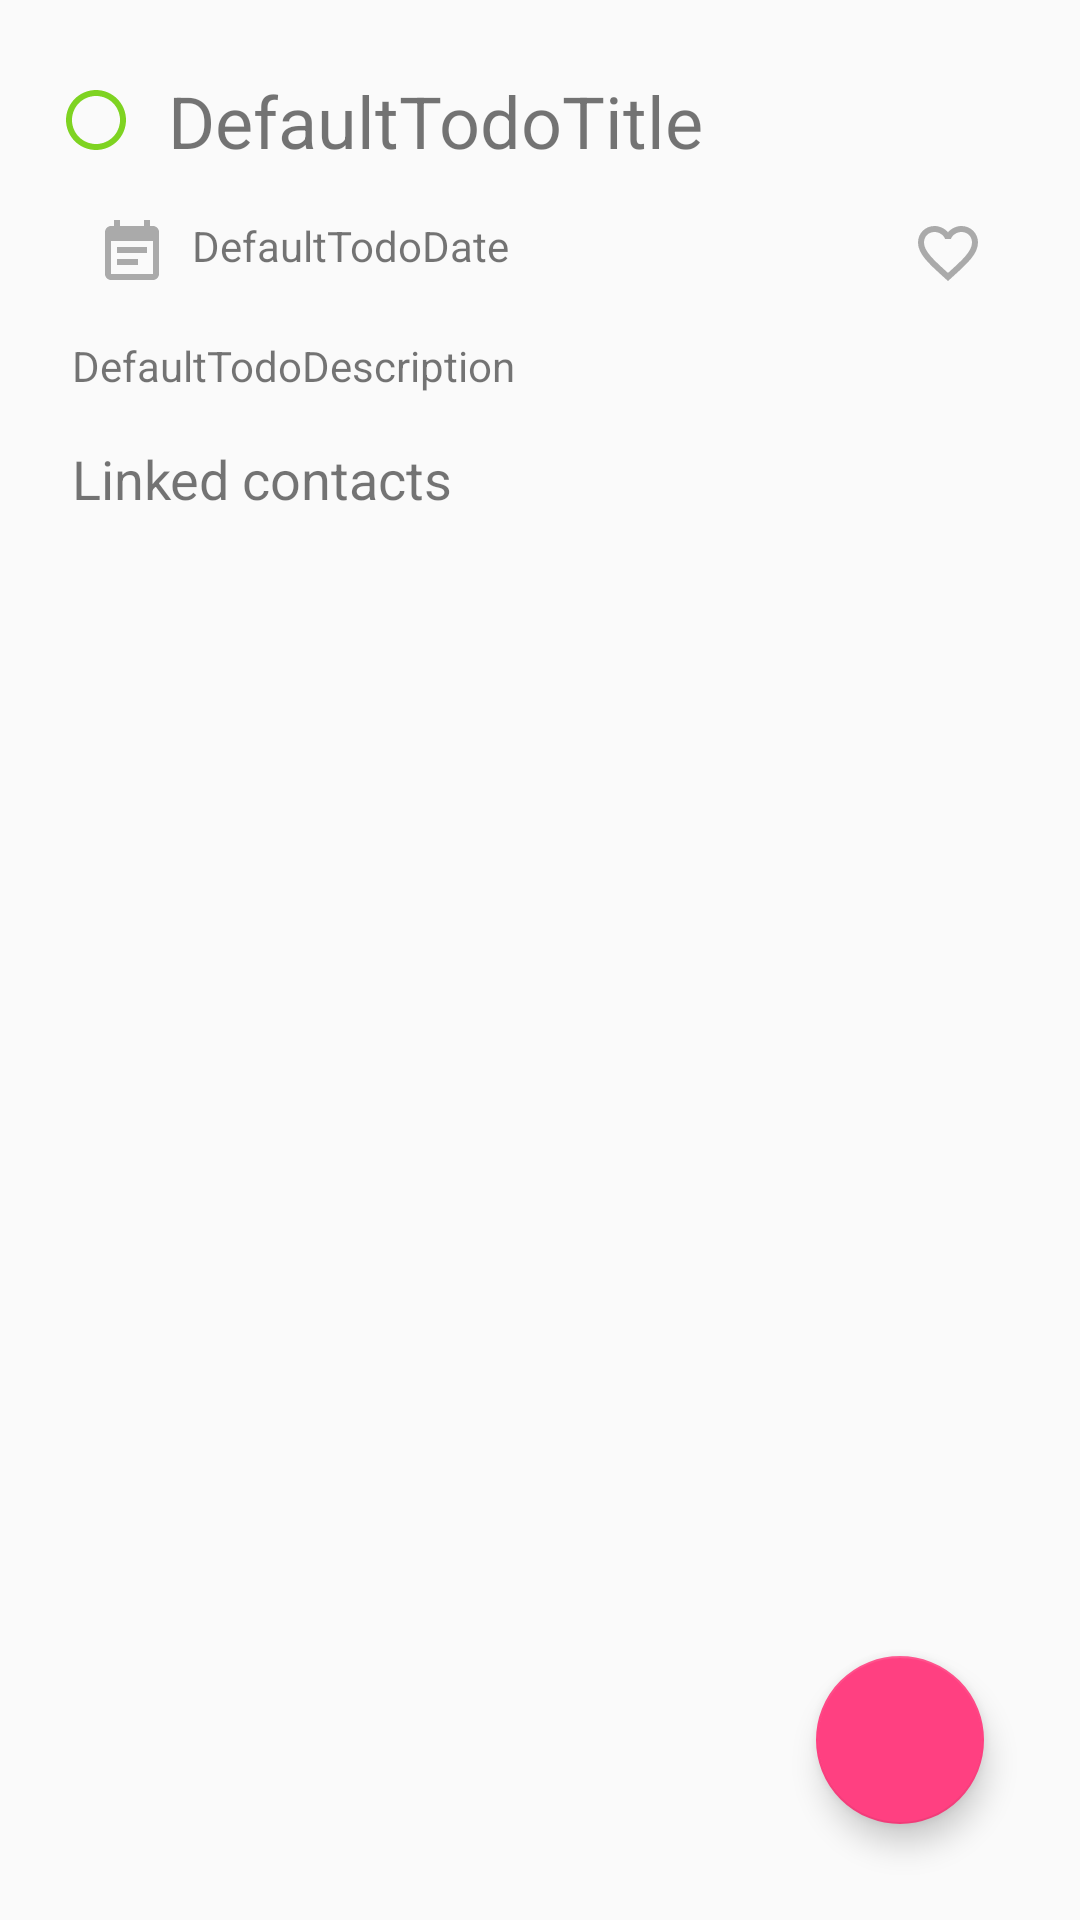

Icons on this 1080×1920 Android screen, each with its box as {"x1": x1, "y1": y1, "x2": x2, "y2": y2}:
Icon for date information: {"x1": 105, "y1": 220, "x2": 159, "y2": 280}
Icon of circles. Describes if todo is a done: {"x1": 66, "y1": 90, "x2": 126, "y2": 150}
Icon of heart. Describes if todo is a favourite: {"x1": 918, "y1": 226, "x2": 978, "y2": 281}
